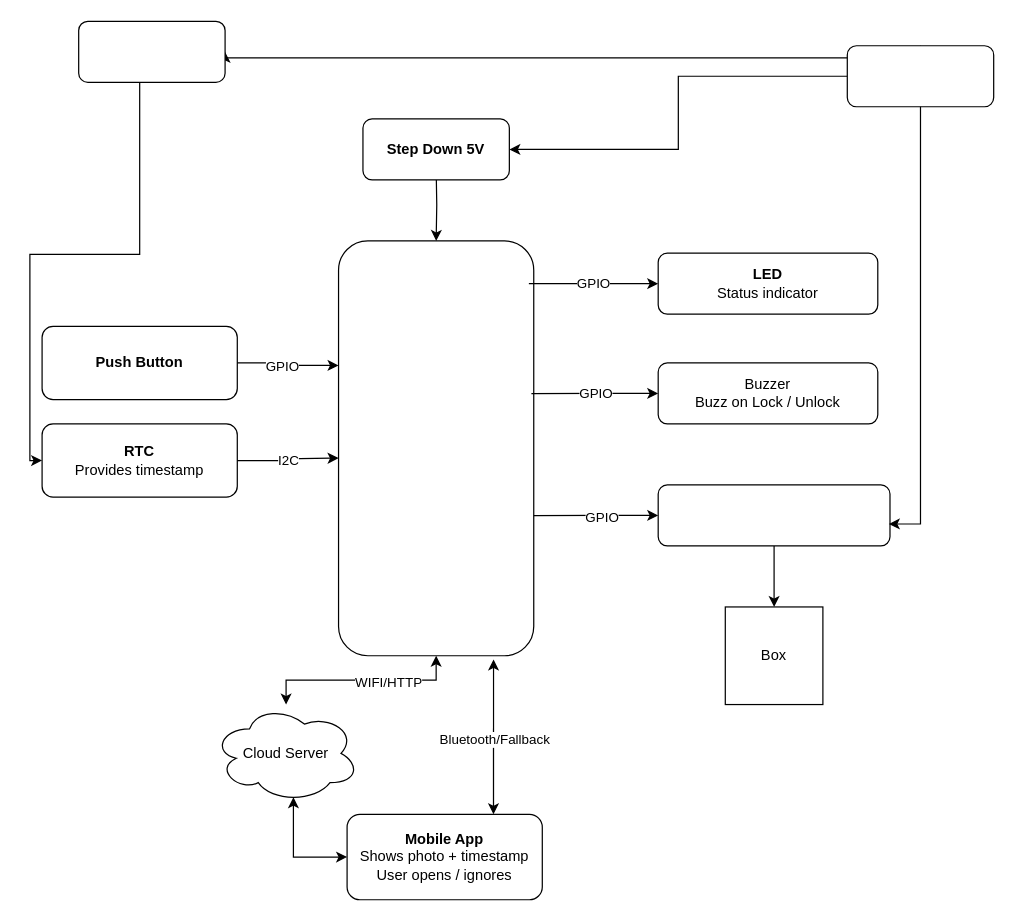
Some shapes in this 1015 by 921 pixel diagram are drawn without their labels. Each missing label, with the centre of its shape:
"12V Power Supply" goes at (920,76).
"Electric Latch Control box's door" goes at (773,515).
"ESP32-CAM Camera + Wi-Fi Takes photo on trigger" goes at (435,448).
"Step Down 3.3V" goes at (151,51).
